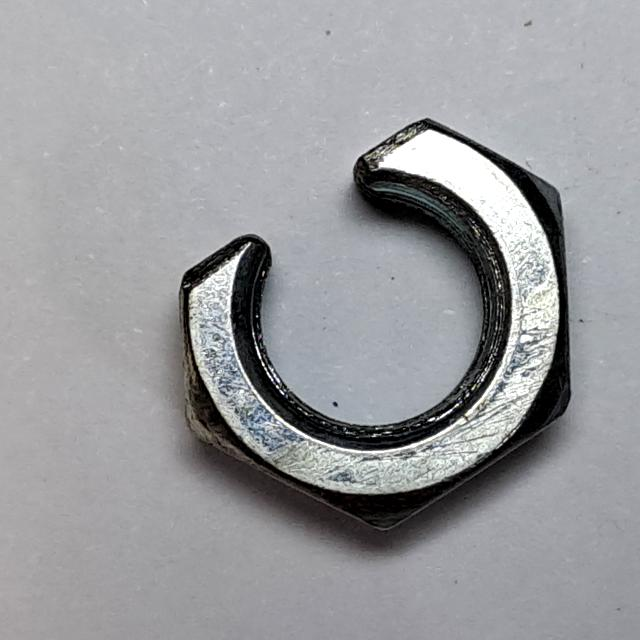Fracture: (164, 105, 583, 555)
